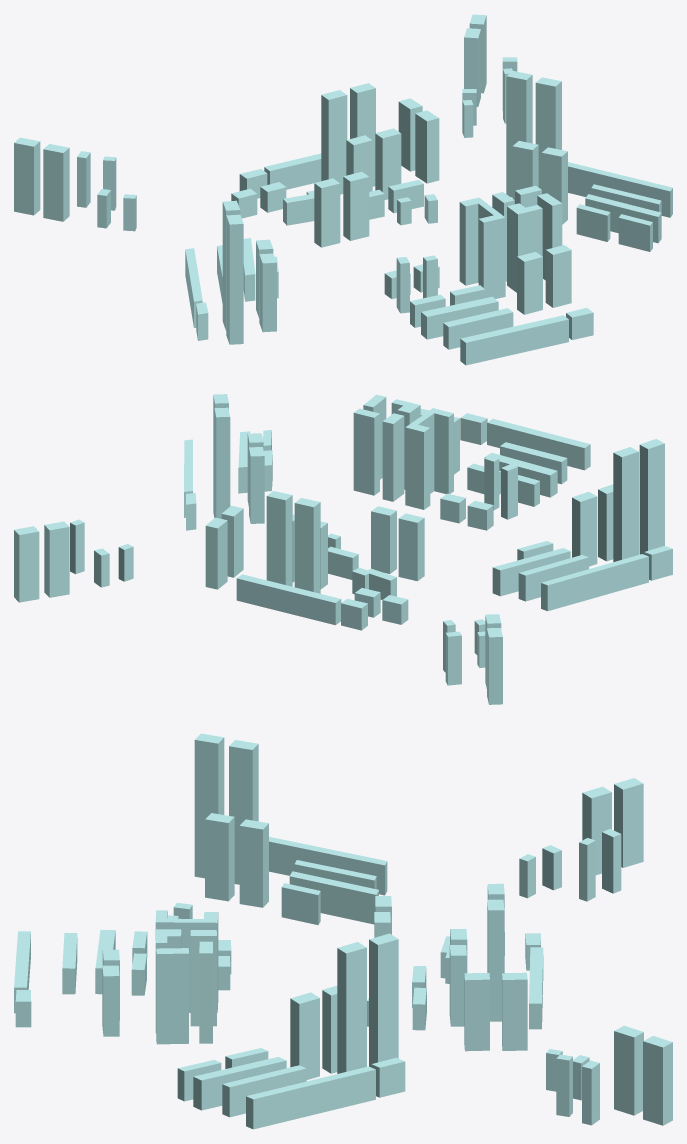
File: industrial-02.glb
3 views of the same model, one above another, from view 1: azimuth 30°, elevation 25°; view 2: azimuth 150°, elevation 25°; view 3: azimuth 270°, elevation 25° (orthographic). The views are drawn at different scales.
Parts seen in each view (by area): view 1: Areas:building.061, Areas:building.060, Areas:building.082, Areas:building.063, Areas:building.081, Areas:building.074, Areas:building.070, Areas:building.064, Areas:building.072, Areas:building.068, Areas:building.066, Areas:building.080 (+10 smaller); view 2: Areas:building.061, Areas:building.067, Areas:building.060, Areas:building.068, Areas:building.063, Areas:building.070, Areas:building.079, Areas:building.064, Areas:building.073, Areas:building.066, Areas:building.081, Areas:building.082 (+10 smaller); view 3: Areas:building.082, Areas:building.061, Areas:building.067, Areas:building.081, Areas:building.068, Areas:building.073, Areas:building.079, Areas:building.060, Areas:building.066, Areas:building.074, Areas:building.080, Areas:building.063 (+9 smaller).
Part boxes in pixels (x1,y1,x2,y2): Areas:building.061: [459, 185, 562, 298]; Areas:building.060: [410, 285, 593, 365]; Areas:building.082: [568, 162, 672, 251]; Areas:building.063: [239, 153, 437, 225]; Areas:building.081: [506, 71, 561, 197]; Areas:building.074: [14, 137, 69, 221]; Areas:building.070: [321, 83, 375, 194]; Areas:building.064: [314, 171, 369, 247]; Areas:building.072: [517, 245, 571, 314]; Areas:building.068: [222, 200, 243, 344]; Areas:building.066: [398, 98, 439, 183]; Areas:building.080: [512, 141, 567, 224]; Areas:building.061: [353, 394, 453, 509]; Areas:building.067: [492, 541, 672, 611]; Areas:building.060: [460, 413, 590, 506]; Areas:building.068: [613, 439, 664, 561]; Areas:building.063: [236, 533, 396, 630]; Areas:building.070: [266, 491, 320, 593]; Areas:building.079: [14, 521, 69, 602]; Areas:building.064: [371, 506, 424, 581]; Areas:building.073: [572, 484, 613, 566]; Areas:building.066: [205, 505, 243, 589]; Areas:building.081: [213, 394, 230, 518]; Areas:building.082: [184, 430, 272, 530]; Areas:building.082: [177, 1048, 405, 1129]; Areas:building.061: [155, 910, 218, 1044]; Areas:building.067: [269, 837, 387, 924]; Areas:building.081: [337, 933, 398, 1073]; Areas:building.068: [194, 733, 258, 884]; Areas:building.073: [205, 813, 268, 907]; Areas:building.079: [614, 1025, 672, 1125]; Areas:building.060: [14, 929, 147, 1027]; Areas:building.066: [464, 972, 527, 1051]; Areas:building.074: [582, 778, 643, 875]; Areas:building.080: [290, 985, 337, 1079]; Areas:building.063: [367, 933, 543, 1030].
Bounding box in the file's own units: 67.66 × 15.8 × 68.97.
